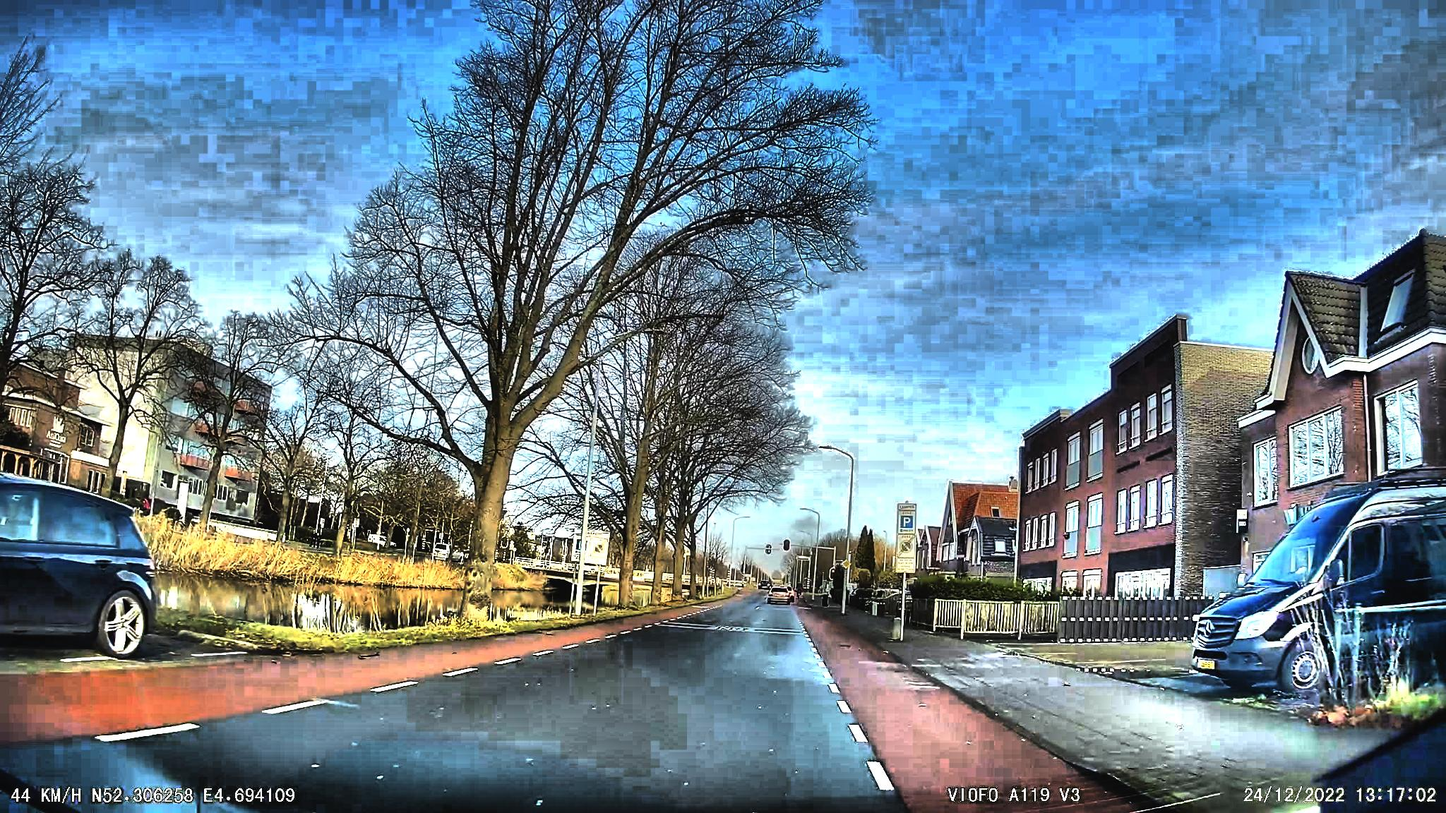Roads: (0, 595, 1097, 813)
